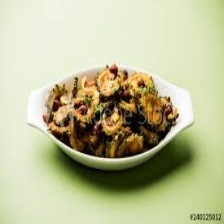sabzi: (36, 62, 182, 163)
